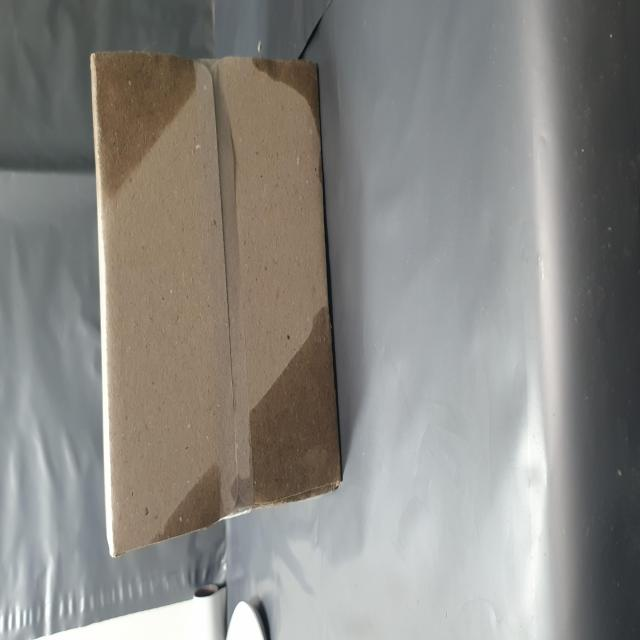wet: (44, 291, 192, 631), (225, 166, 336, 351)
